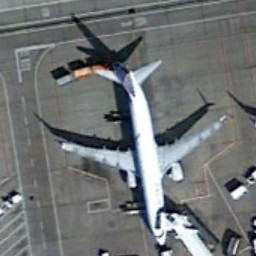Airplane: (56, 53, 232, 253)
